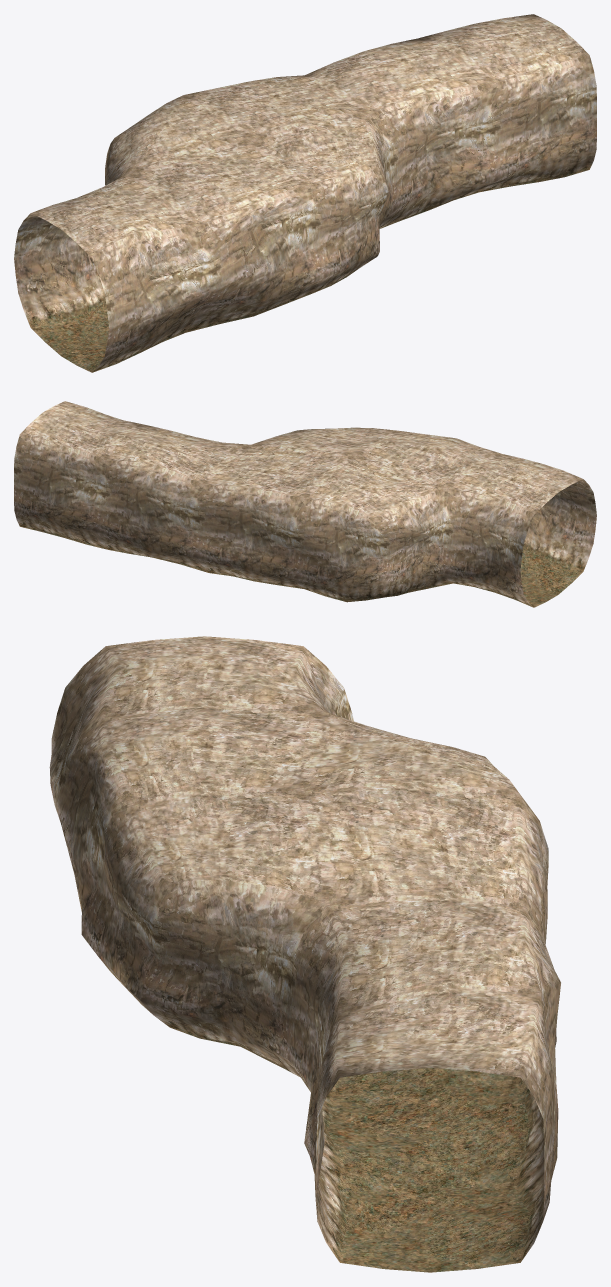
Rendered from thm_all_cave_s03_r3_mesh_r3.fbx.
3 views of the same model, one above another, from view 1: azimuth 30°, elevation 25°; view 2: azimuth 150°, elevation 25°; view 3: azimuth 270°, elevation 25° (orthographic). The views are drawn at different scales.
Visible parts, largest first — view 1: mesh_node; view 2: mesh_node; view 3: mesh_node.
Boxes of the visible parts, <box> form: mesh_node: <box>14,14,596,372</box>; mesh_node: <box>14,401,596,607</box>; mesh_node: <box>49,636,560,1272</box>.
Bounding box in the file's own units: 37.27 × 8.92 × 17.95.
